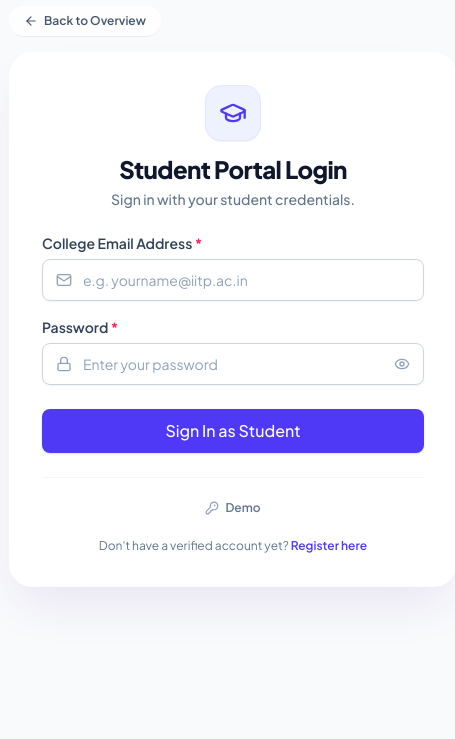
Test: StudentLoginPage › shows error on invalid student credentials
Type "unknown.student@iitp.ac.in" into the field labelled "College Email Address *" at {"x": 233, "y": 280}, box [42,259,424,301]
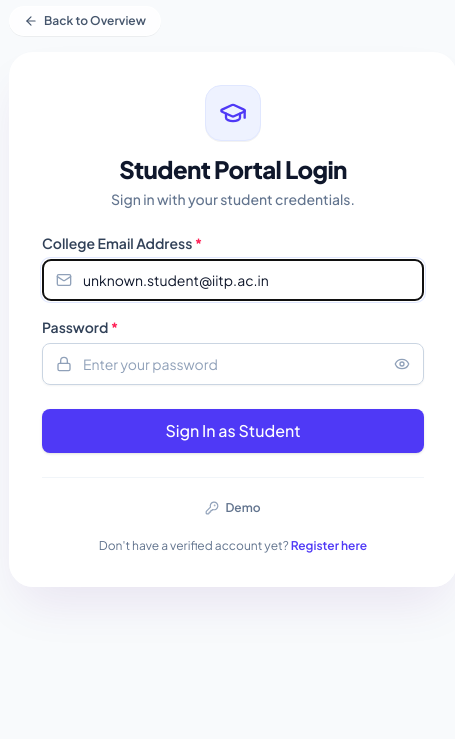
Type "wrongpassword" into the password field labelled "Password *" at {"x": 233, "y": 364}, box [42,343,424,385]
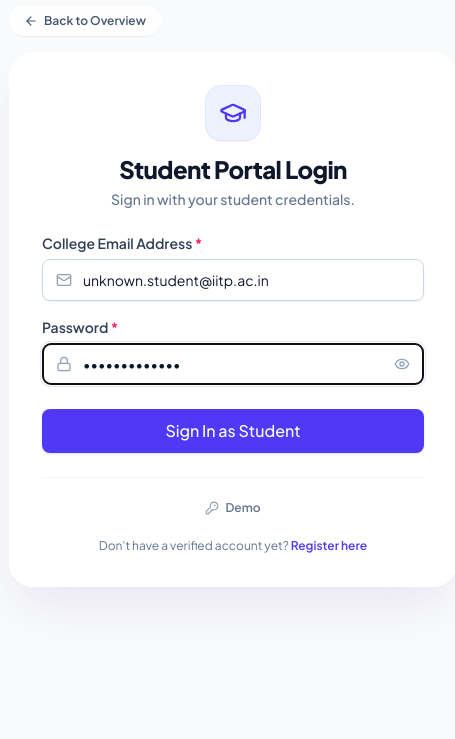
Click the button "Sign In as Student" at {"x": 233, "y": 431}, box [42,409,424,453]
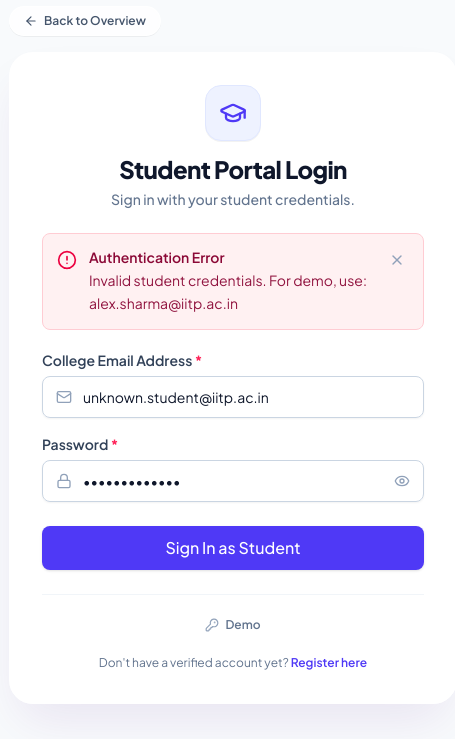
Expected: the text "Invalid student credentials" is shown, [89,271,367,312]
